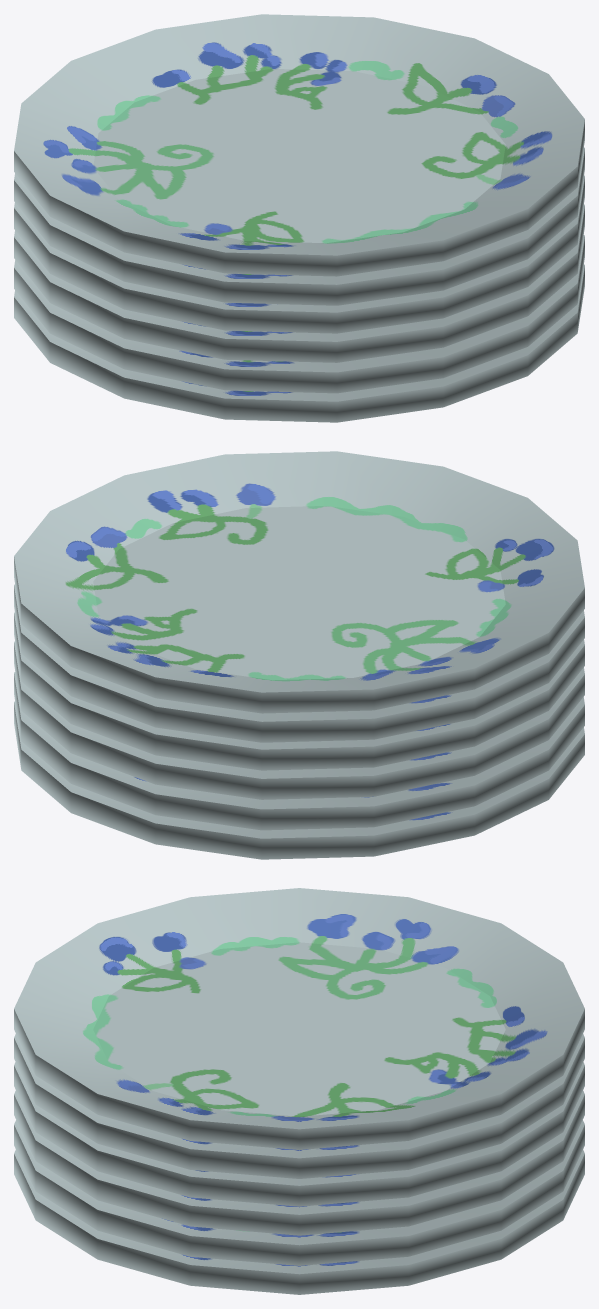
The model's file is stackplate.fbx.
The picture shows the model from 3 angles, top to bottom: view 1: azimuth 30°, elevation 25°; view 2: azimuth 150°, elevation 25°; view 3: azimuth 270°, elevation 25°; orthographic projection.
Visible parts, largest first — view 1: Cylinder.005, Cylinder.001, Cylinder, Cylinder.004, Cylinder.002, Cylinder.003; view 2: Cylinder.005, Cylinder.001, Cylinder, Cylinder.004, Cylinder.002, Cylinder.003; view 3: Cylinder.005, Cylinder.001, Cylinder.002, Cylinder, Cylinder.004, Cylinder.003.
Boxes of the visible parts, x1,y1,x2,y2 form: Cylinder.005: (14, 14, 584, 276); Cylinder.001: (14, 235, 584, 393); Cylinder: (14, 264, 584, 422); Cylinder.004: (14, 147, 584, 305); Cylinder.002: (14, 204, 584, 362); Cylinder.003: (14, 175, 584, 333); Cylinder.005: (14, 451, 584, 713); Cylinder.001: (14, 672, 584, 830); Cylinder: (14, 701, 584, 859); Cylinder.004: (14, 584, 584, 742); Cylinder.002: (14, 641, 584, 799); Cylinder.003: (14, 612, 584, 770); Cylinder.005: (14, 888, 584, 1149); Cylinder.001: (14, 1120, 584, 1265); Cylinder.002: (14, 1090, 584, 1235); Cylinder: (14, 1150, 584, 1294); Cylinder.004: (14, 1034, 584, 1178); Cylinder.003: (14, 1062, 584, 1206).
Size of the model in its own units: 200 by 71.6 by 200.
Materials: 1 (1 with a texture image).
